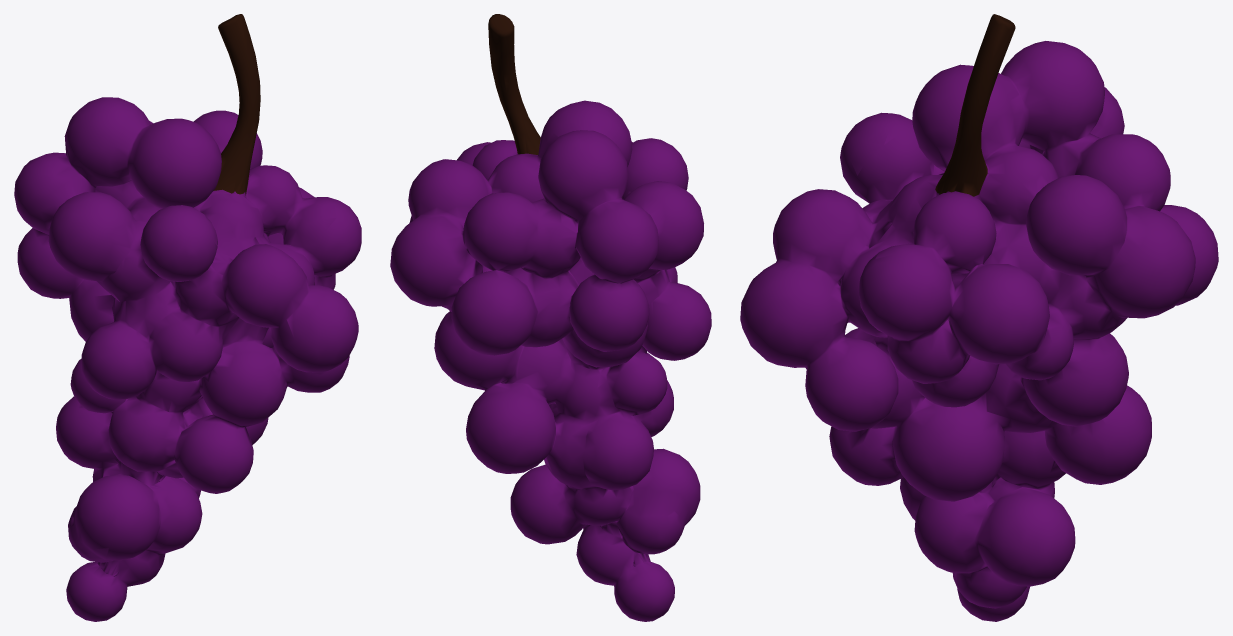
File: uva.fbx
3 renders of one model, left to right at view 1: azimuth 30°, elevation 25°; view 2: azimuth 150°, elevation 25°; view 3: azimuth 270°, elevation 25°, orthographic. The views are drawn at different scales.
Visible parts, largest first — view 1: Uva; view 2: Uva; view 3: Uva.
Part boxes in pixels (x1=…): Uva: x1=14, y1=14, x2=361, y2=621; Uva: x1=390, y1=14, x2=711, y2=621; Uva: x1=740, y1=14, x2=1218, y2=621.
Bounding box in the file's own units: 13.23 × 26.22 × 16.56.
